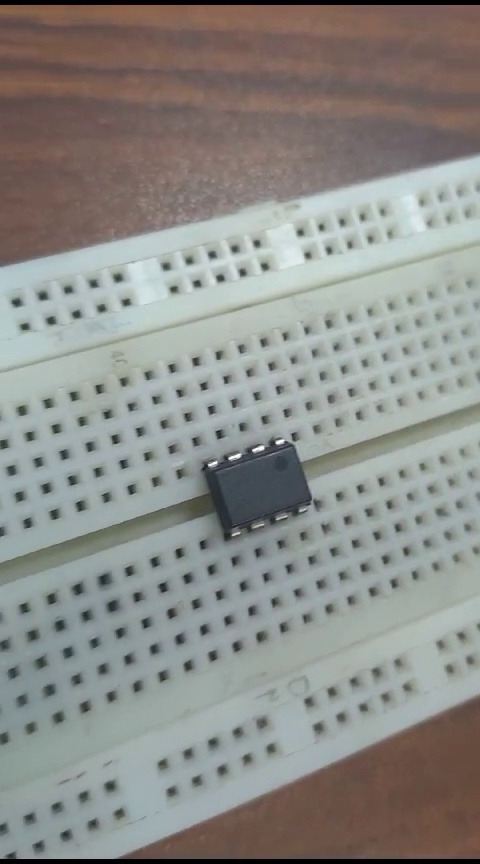IC: (192, 435, 335, 537)
